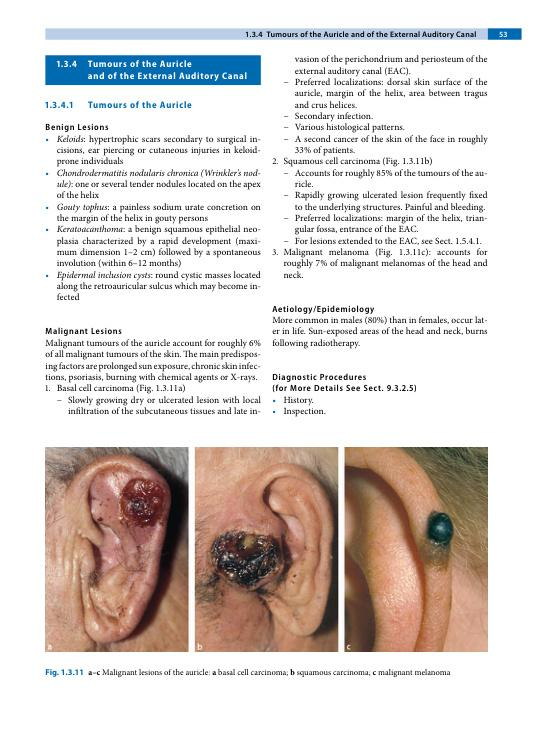caption: (44, 666, 452, 680), (196, 642, 204, 651), (345, 643, 353, 651), (46, 644, 53, 651)
header: (265, 29, 477, 40)
image: (343, 446, 489, 653), (44, 446, 189, 653), (194, 446, 339, 653)
list: (270, 53, 489, 280), (45, 133, 262, 302), (44, 384, 262, 416), (271, 395, 327, 418)
section-heading: (87, 59, 249, 83)
sub-section-heading: (86, 100, 193, 110), (271, 304, 376, 314), (271, 373, 368, 383), (44, 326, 123, 337), (44, 122, 110, 132)
text: (44, 337, 262, 384), (271, 315, 489, 350)
